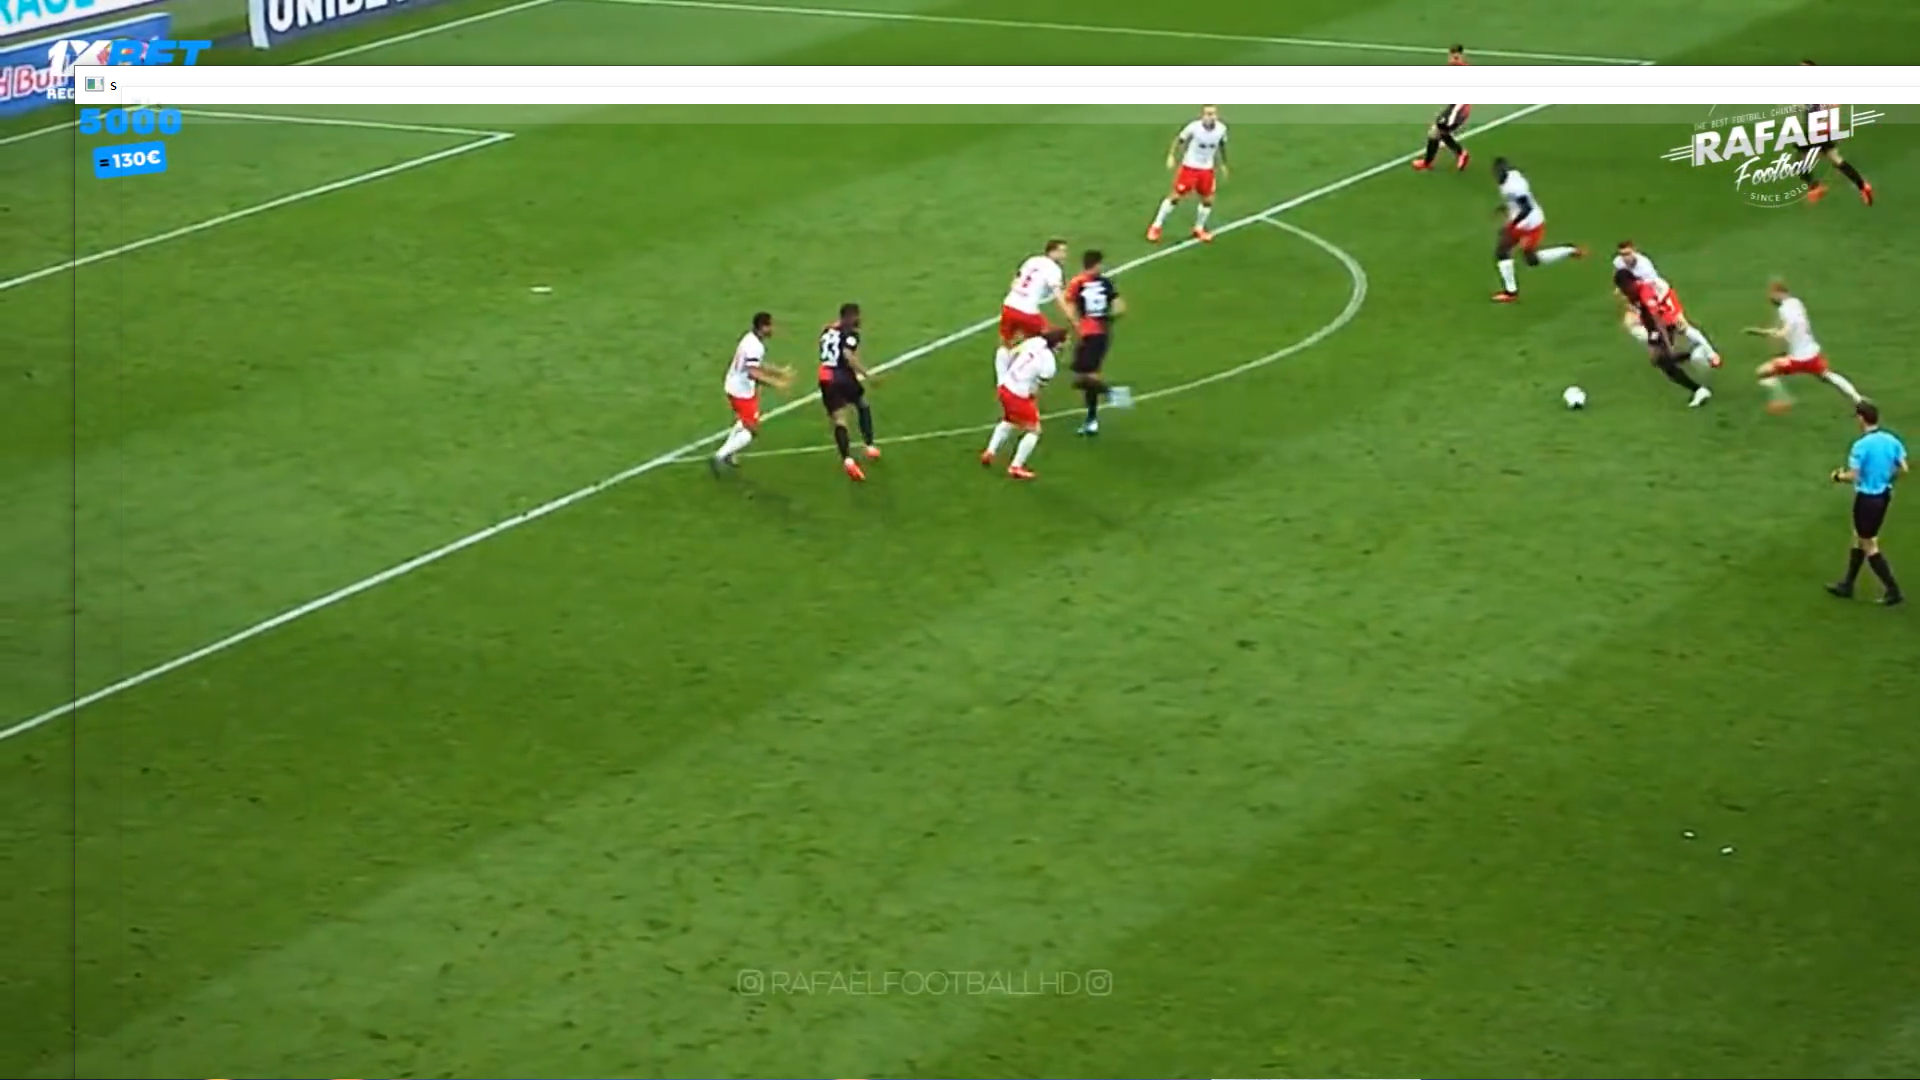ft: (1560, 386, 1593, 410)
